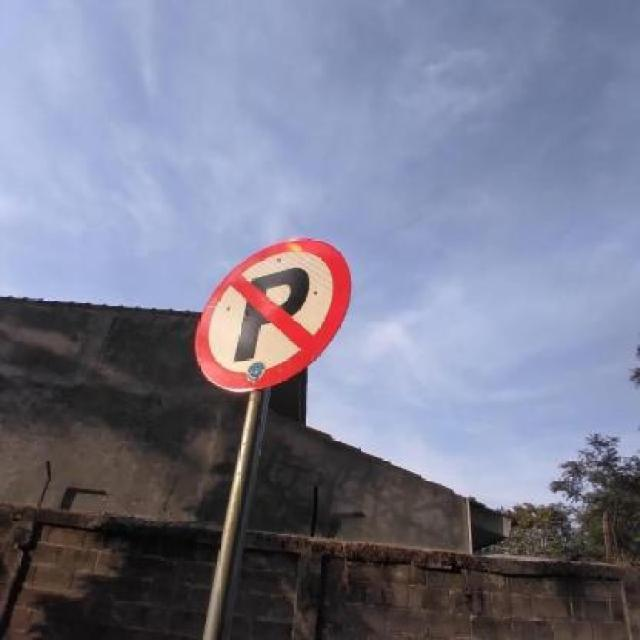no parking: (174, 228, 370, 393)
